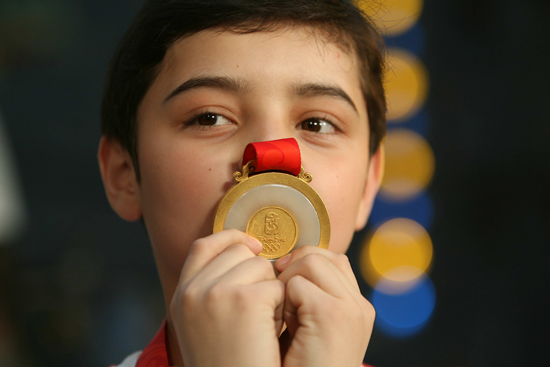face: (150, 24, 373, 301)
